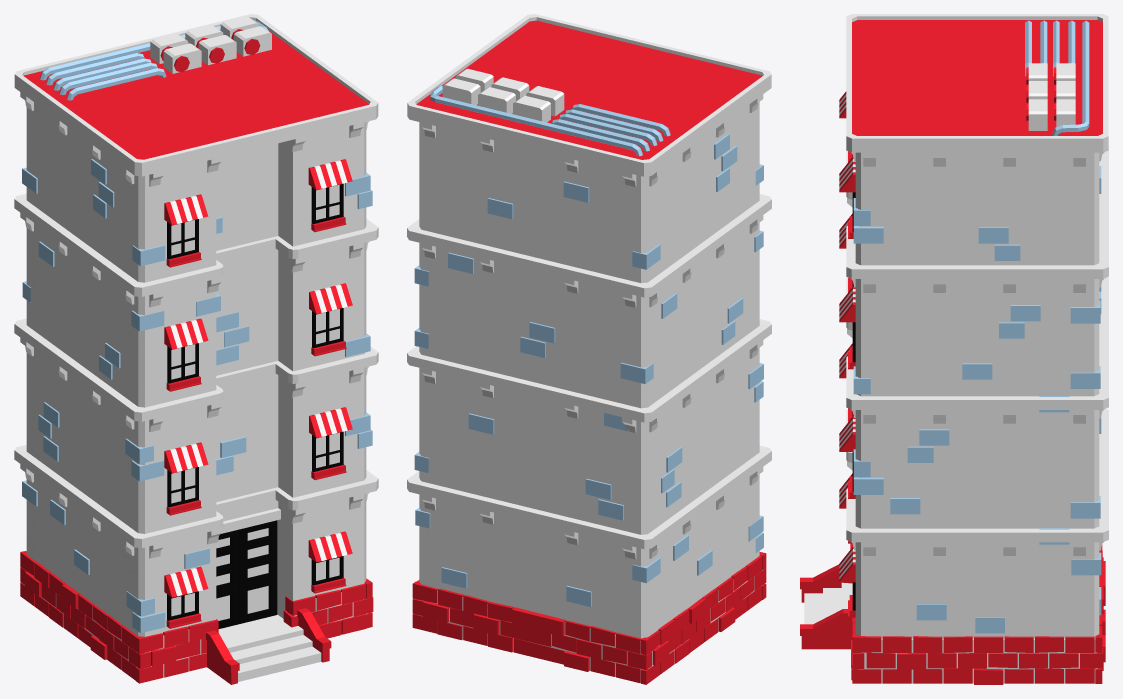
The model's file is building_quaternius_4Story_Center.glb.
3 renders of one model, left to right at view 1: azimuth 30°, elevation 25°; view 2: azimuth 150°, elevation 25°; view 3: azimuth 270°, elevation 25°, orthographic. The views are drawn at different scales.
Bounding box in the file's own units: 2.42 × 5.09 × 2.53.
Materials: 1 (1 with a texture image).
